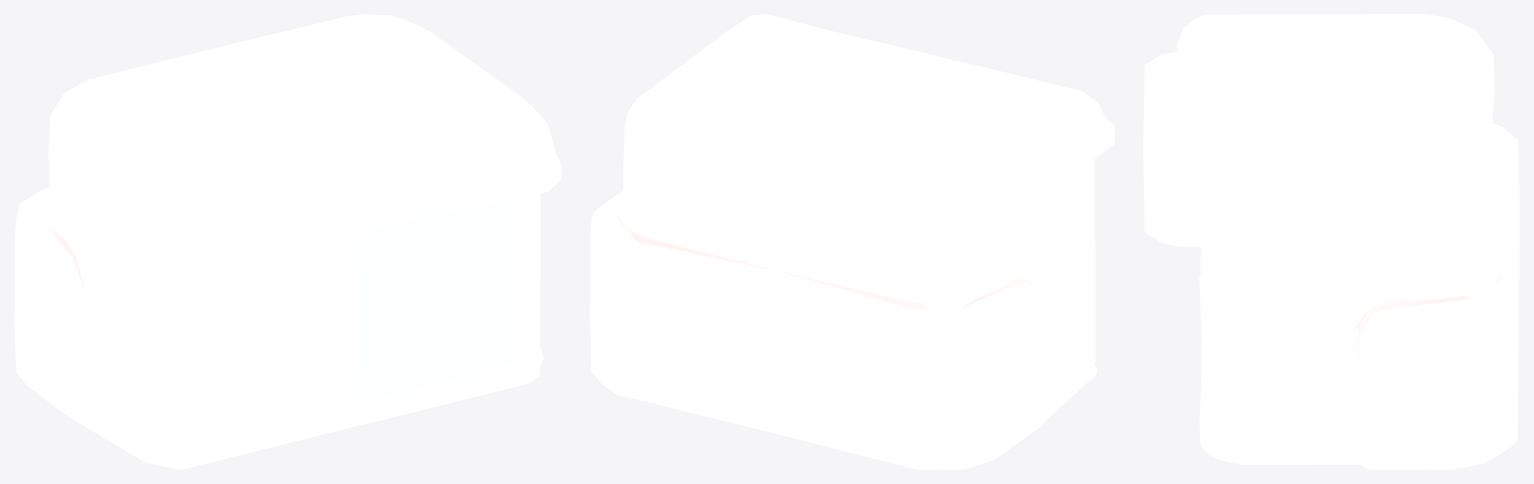
File: Head_02.gltf
3 views of the same model, side by side, from view 1: azimuth 30°, elevation 25°; view 2: azimuth 150°, elevation 25°; view 3: azimuth 270°, elevation 25° (orthographic). The views are drawn at different scales.
Visible parts, largest first — view 1: Head_v2; view 2: Head_v2; view 3: Head_v2.
Boxes of the visible parts, left/top/right/bottom form: Head_v2: left=14, top=14, right=561, bottom=469; Head_v2: left=590, top=14, right=1114, bottom=469; Head_v2: left=1143, top=14, right=1519, bottom=469.
Size of the model in its own units: 33.03 by 22.42 by 25.84.
3 materials, 2 textured.
